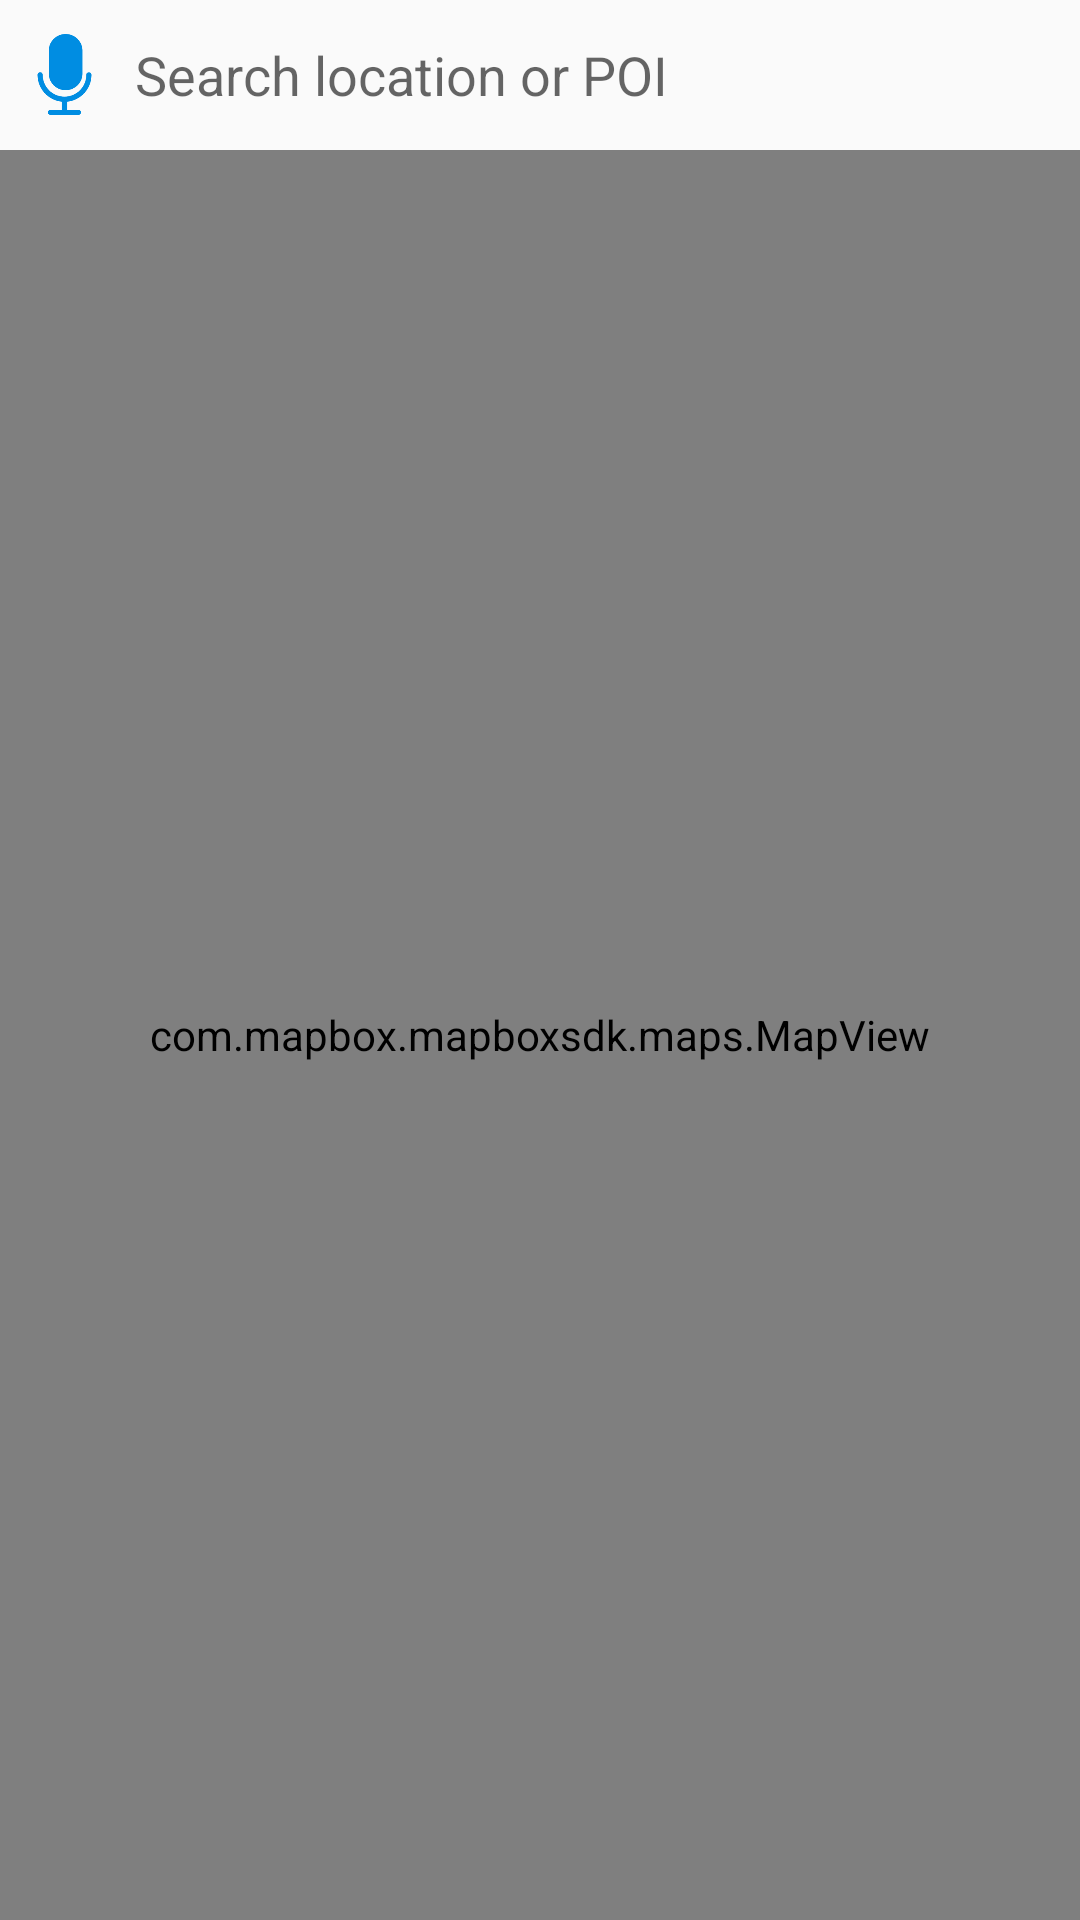

Where to tap for icons on this 1080px×1920px app screen, as (x,y):
voice: (64,74)
